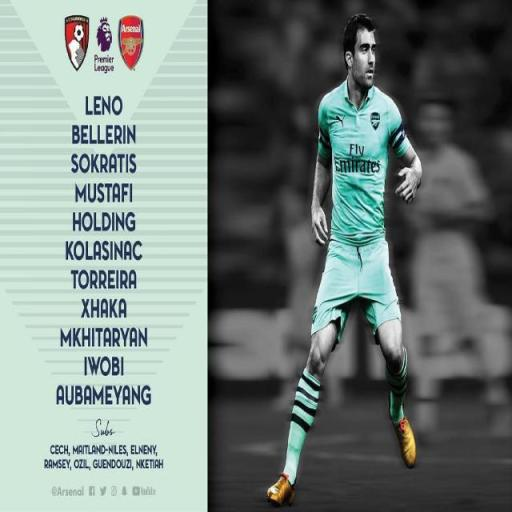Emirates: (334, 142, 380, 178)
